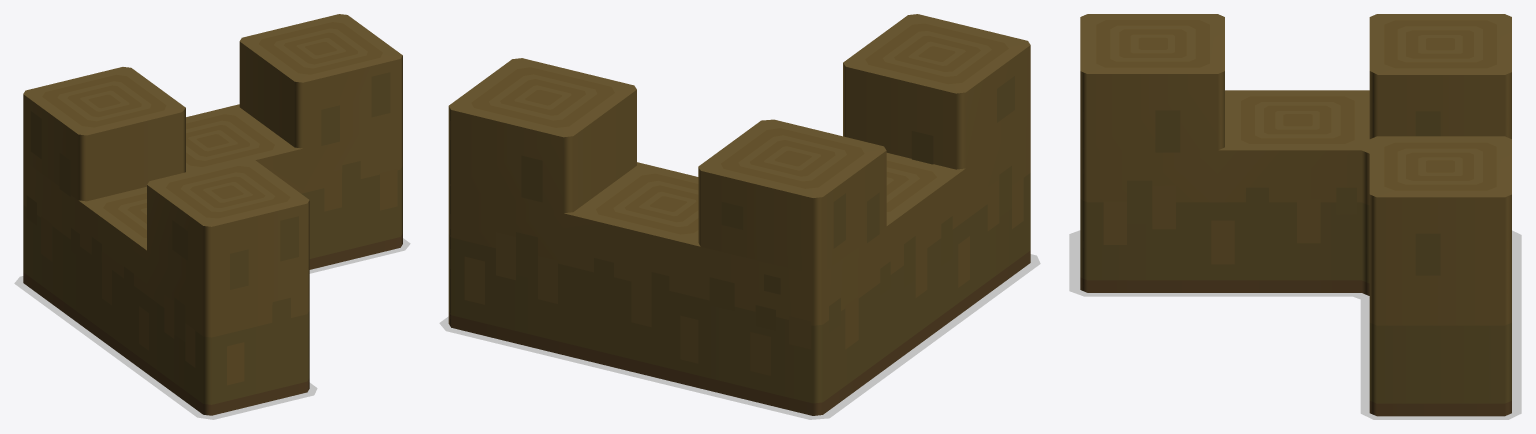
File: MG_wall_wood_L_small.fbx
3 views of the same model, side by side, from view 1: azimuth 30°, elevation 25°; view 2: azimuth 150°, elevation 25°; view 3: azimuth 270°, elevation 25° (orthographic). The views are drawn at different scales.
Parts seen in each view (by area): view 1: model, ground; view 2: model, ground; view 3: model, ground.
Boxes of the visible parts, bbox=[...] form: model: bbox=[23, 14, 402, 415]; ground: bbox=[14, 238, 410, 419]; model: bbox=[448, 14, 1030, 415]; ground: bbox=[439, 254, 1040, 419]; model: bbox=[1080, 14, 1511, 416]; ground: bbox=[1069, 230, 1521, 419].
Size of the model in its own units: 9.51 by 5.07 by 9.5.
